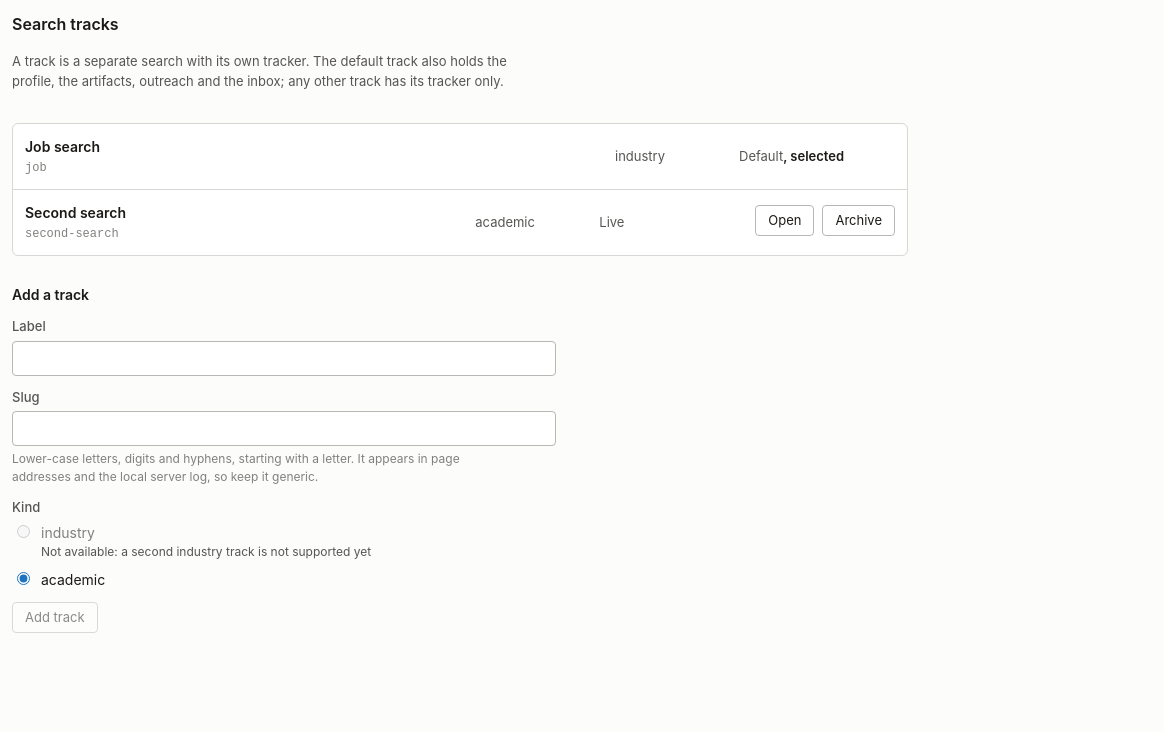
Scenario: a refused archive is shown in the domain's words
Click the button with aria-label "Archive Second search" at (859, 221), box x1=822 y1=205 x2=895 y2=236
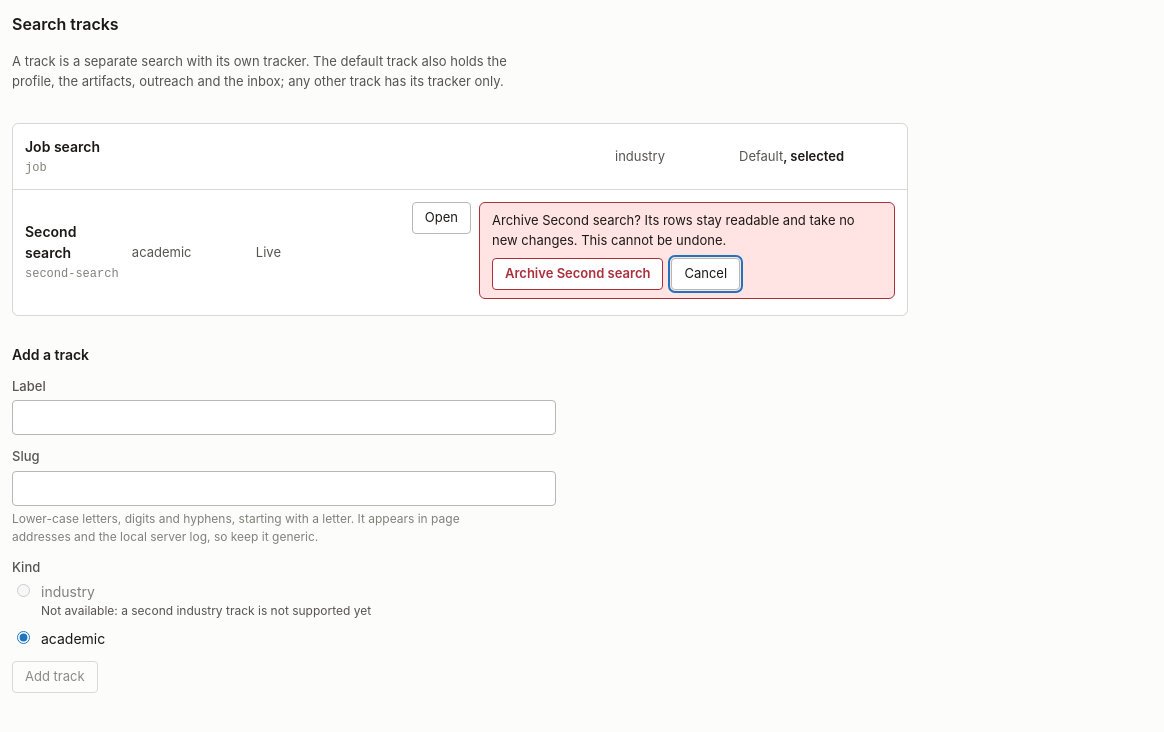
Click the button "Archive Second search" at (578, 274), box x1=492 y1=258 x2=663 y2=290
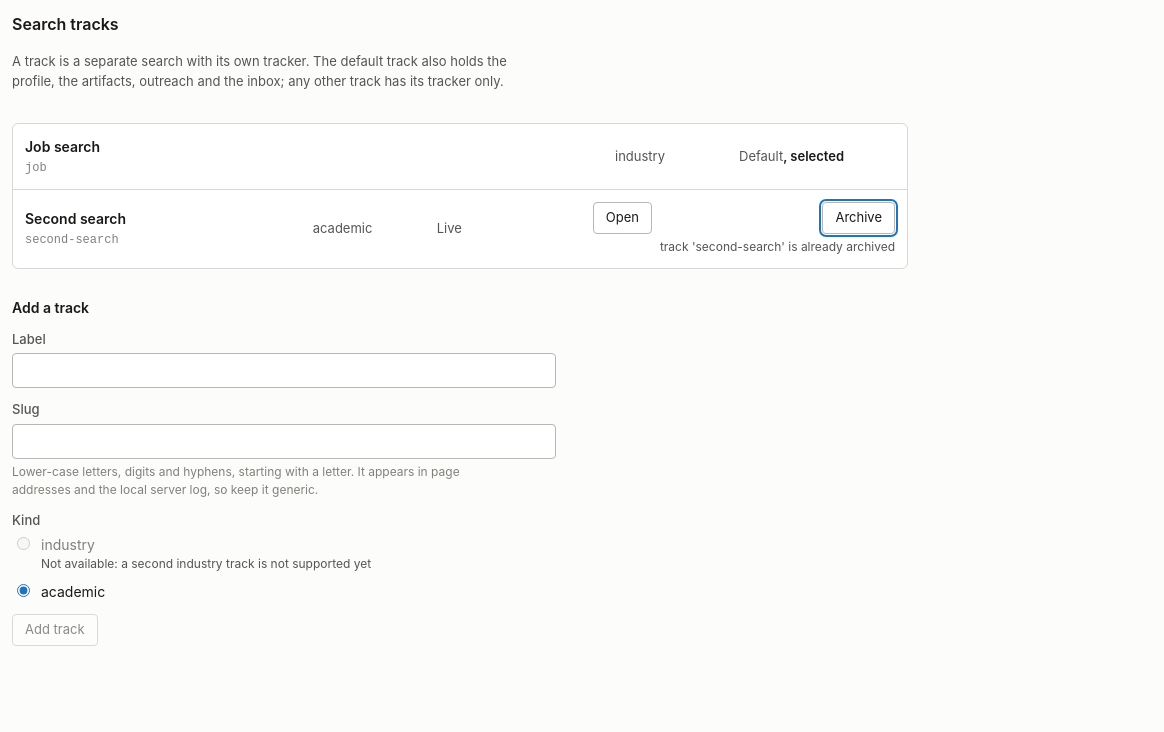
Result: the text "track 'second-search' is already archived" is shown at x1=660 y1=238 x2=895 y2=256
